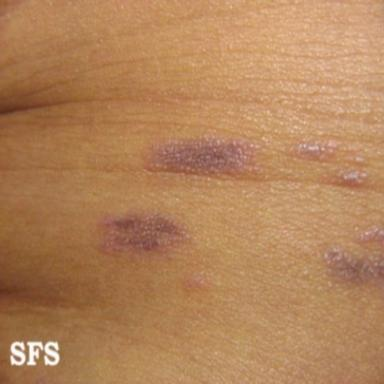lichen: (99, 212, 191, 260), (146, 136, 259, 175), (324, 226, 384, 287), (295, 142, 337, 159), (332, 170, 367, 188), (184, 270, 213, 291)
